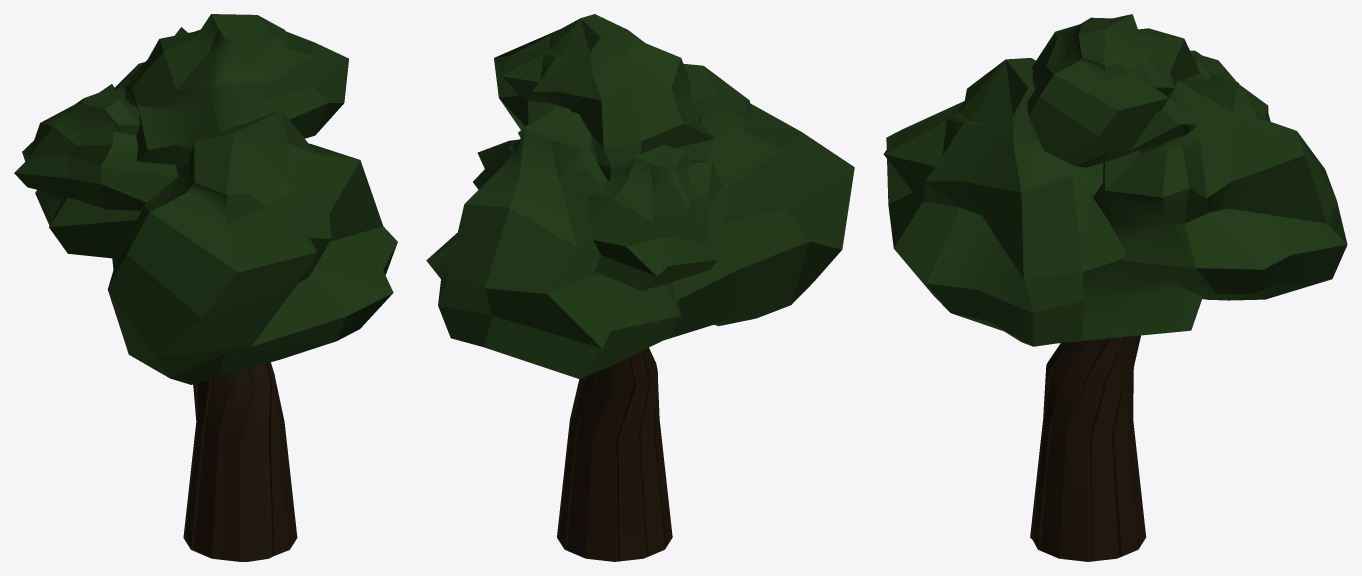
The model's file is Tree1.obj.
3 views of the same model, side by side, from view 1: azimuth 30°, elevation 25°; view 2: azimuth 150°, elevation 25°; view 3: azimuth 270°, elevation 25° (orthographic).
Parts seen in each view (by area): view 1: polySurface6; view 2: polySurface6; view 3: polySurface6.
Part boxes in pixels (x1,y1,x2,y2): polySurface6: (14,14,397,561); polySurface6: (426,14,854,561); polySurface6: (883,14,1347,561).
Bounding box in the file's own units: 5.97 × 9.9 × 7.99.
